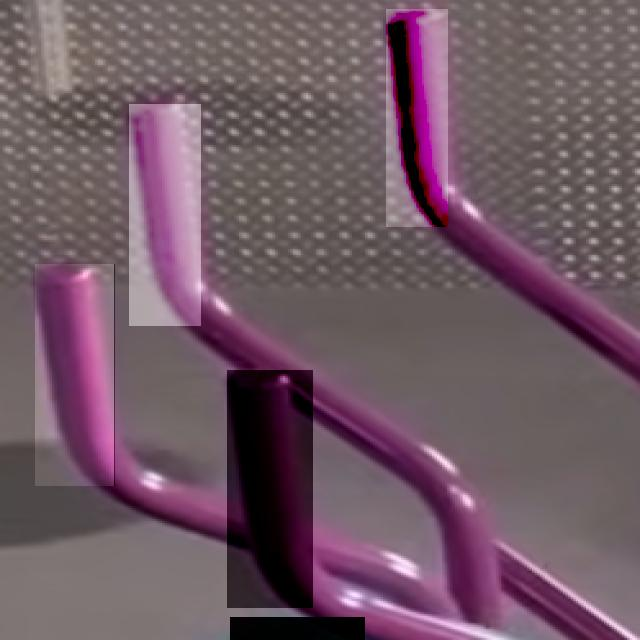Algae: (230, 617, 365, 640)
Reef: (227, 370, 313, 608), (36, 264, 116, 486), (129, 104, 201, 326), (386, 9, 448, 227)
